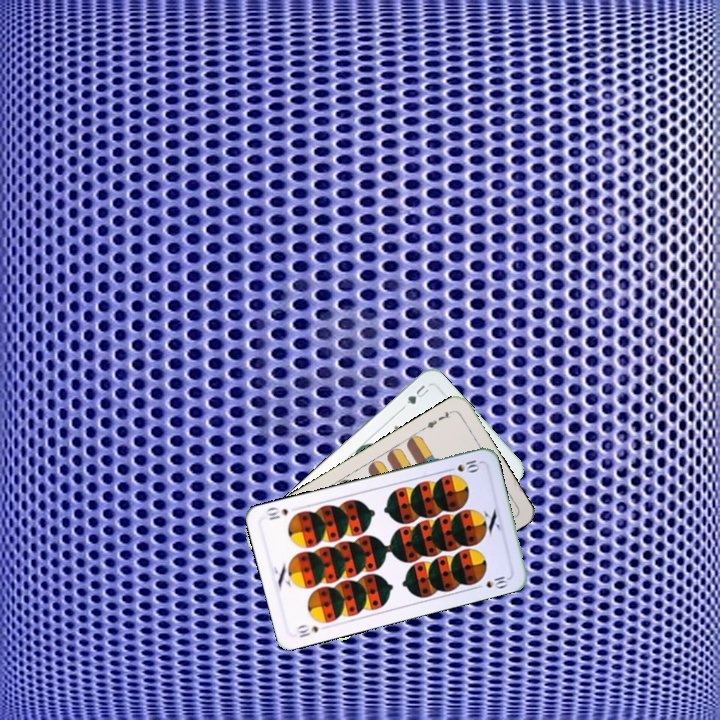E7: (419, 406, 456, 432)
GU: (402, 381, 431, 408)
S10: (443, 456, 483, 474), (293, 620, 321, 640)
